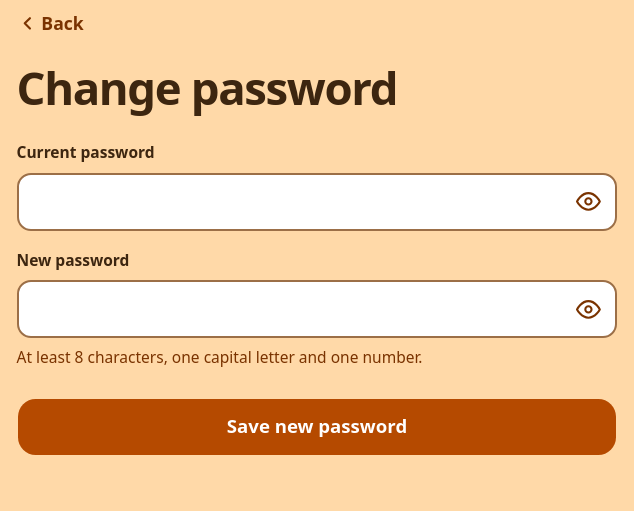
ChangePasswordScreen › shows the en text for the answer AUTH_CURRENT_PASSWORD_WRONG inline
Type "OldPassw0rd" into the password field labelled "Current password" at [317, 202], box [16,173,618,231]
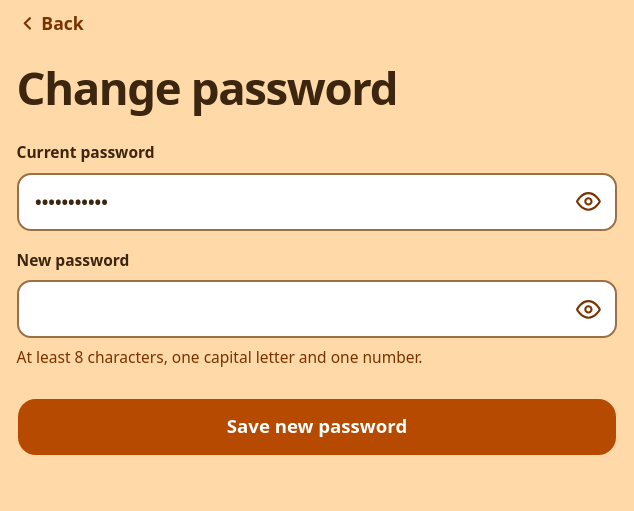
Type "NewPassw0rd" into the password field labelled "New password" at [317, 309], box [16,280,618,338]
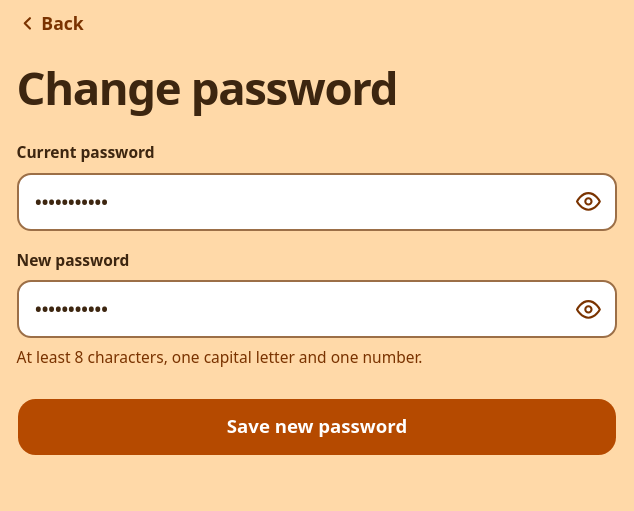
Click the button "Save new password" at [317, 427], box [16,398,618,456]
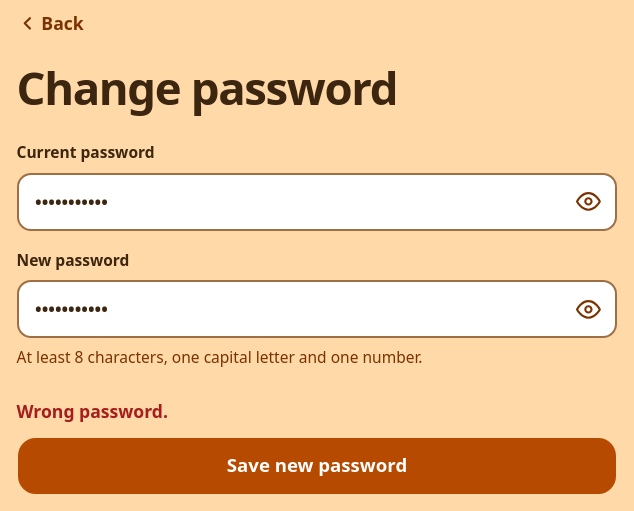
Expected: the message reads "Wrong password.", [16,399,168,423]
